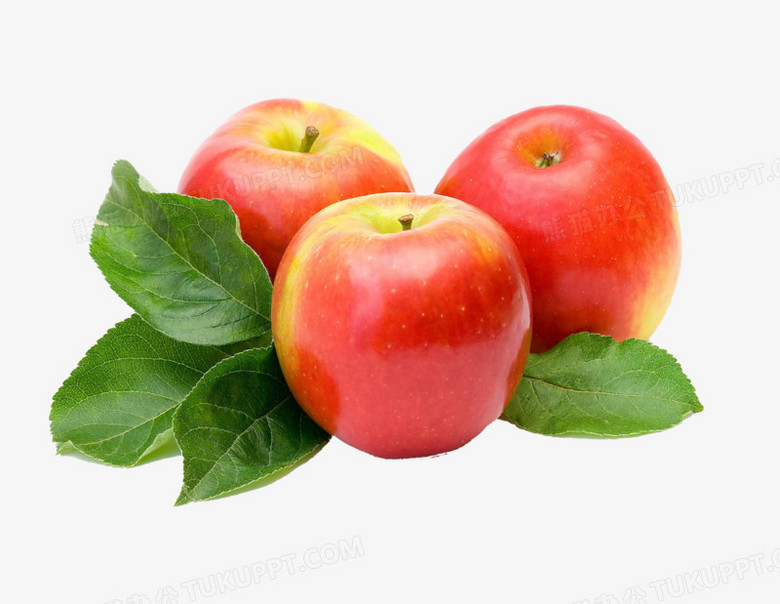apple: (271, 194, 529, 456), (439, 105, 680, 362), (171, 96, 415, 294)
